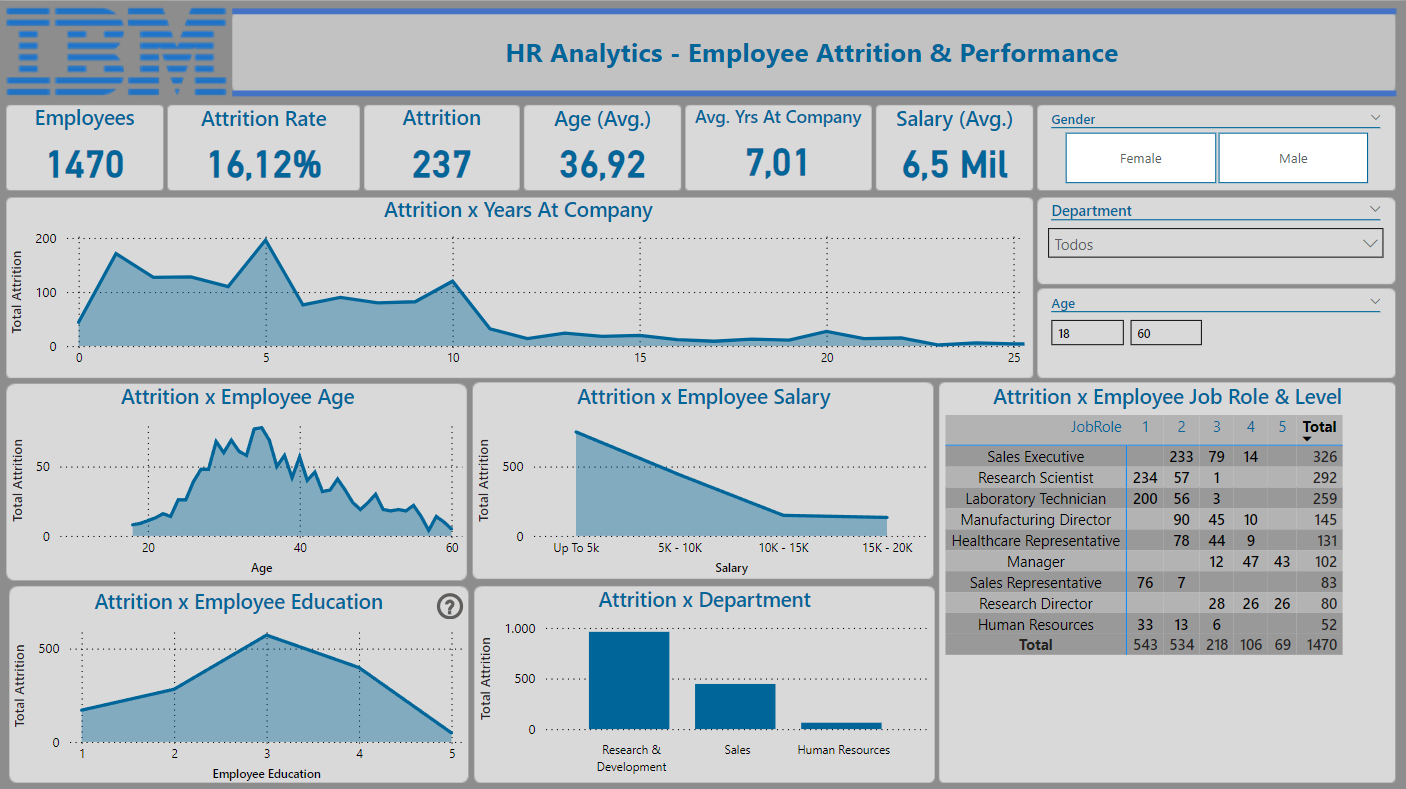

This screenshot's page, from the dashboard's own definition file:
{"tool":"powerbi","page":{"name":"Dashboard","canvas":[1280,720],"ordinal":0},"visuals":[{"type":"actionButton","box":[306,25,865,40],"z":3000},{"type":"card","title":"Employees","fields":{"Values":["Sum(IBM HR Analytics Employee Attrition & Performance.EmployeeCount)"]},"box":[7.3,92.7,140.9,80],"z":4000},{"type":"card","title":"Attrition Rate","fields":{"Values":["_Measures.AttritionRate"]},"box":[153.6,93.6,173.6,79.1],"z":5000},{"type":"card","title":"Attrition","fields":{"Values":["_Measures.AttritionTotal"]},"box":[330.9,92.7,142.7,80],"z":6000},{"type":"card","title":"Age (Avg.)","fields":{"Values":["Avg(IBM HR Analytics Employee Attrition & Performance.Age)"]},"box":[478.2,93.6,140.9,79.1],"z":7000},{"type":"card","title":"Avg. Yrs At Company","fields":{"Values":["Avg(IBM HR Analytics Employee Attrition & Performance.YearsAtCompany)"]},"box":[624.5,93.6,167.3,79.1],"z":8000},{"type":"card","title":"Salary (Avg.)","fields":{"Values":["Avg(IBM HR Analytics Employee Attrition & Performance.MonthlyIncome)"]},"box":[797.3,93.6,142.7,79.1],"z":9000},{"type":"slicer","title":"Age","fields":{"Values":["IBM HR Analytics Employee Attrition & Performance.Age"]},"box":[944,261,325,82],"z":10000},{"type":"slicer","fields":{"Values":["IBM HR Analytics Employee Attrition & Performance.Gender"]},"box":[943.6,93.6,325.5,79.1],"z":11000},{"type":"stackedAreaChart","title":"Attrition x Years At Company","fields":{"Category":["IBM HR Analytics Employee Attrition & Performance.YearsAtCompany"],"Y":["CountNonNull(IBM HR Analytics Employee Attrition & Performance.Attrition)"]},"box":[6.4,176.4,930.9,166.4],"z":12000},{"type":"stackedAreaChart","title":"Attrition x Employee Age","fields":{"Y":["CountNonNull(IBM HR Analytics Employee Attrition & Performance.Attrition)"],"Category":["IBM HR Analytics Employee Attrition & Performance.Age"]},"box":[7.3,346.4,419.1,180.9],"z":13000},{"type":"clusteredColumnChart","title":"Attrition x Department","fields":{"Category":["IBM HR Analytics Employee Attrition & Performance.Department"],"Y":["CountNonNull(IBM HR Analytics Employee Attrition & Performance.Attrition)"]},"box":[432.7,530.9,417.3,180],"z":14000},{"type":"stackedAreaChart","title":"Attrition x Employee Education","fields":{"Y":["CountNonNull(IBM HR Analytics Employee Attrition & Performance.Attrition)"],"Category":["IBM HR Analytics Employee Attrition & Performance.Education"]},"box":[9.1,532.7,417.3,181.8],"z":15000},{"type":"actionButton","box":[393.6,530.9,32.7,38.2],"z":16000},{"type":"pivotTable","title":"Attrition x Employee Job Role & Level","fields":{"Rows":["IBM HR Analytics Employee Attrition & Performance.JobRole"],"Values":["CountNonNull(IBM HR Analytics Employee Attrition & Performance.Attrition)"],"Columns":["IBM HR Analytics Employee Attrition & Performance.JobLevel"]},"box":[855.5,346.4,413.6,364.5],"z":17000},{"type":"slicer","title":"Age","fields":{"Values":["IBM HR Analytics Employee Attrition & Performance.Department"]},"box":[943.6,176.4,325.5,81.8],"z":18000},{"type":"stackedAreaChart","title":"Attrition x Employee Salary","fields":{"Y":["CountNonNull(IBM HR Analytics Employee Attrition & Performance.Attrition)"],"Category":["IBM HR Analytics Employee Attrition & Performance.IncomeRange"]},"box":[430.9,346.4,419.1,180.9],"z":19000}]}

Visuals, with their boxes in screenshot pixels (x1, y1, x2, y2), scaled from the page's 1280x720 canvas onto the 1406x789 screenshot:
actionButton: [336, 27, 1286, 71]
"Employees" card: [8, 102, 163, 189]
"Attrition Rate" card: [169, 103, 359, 189]
"Attrition" card: [363, 102, 520, 189]
"Age (Avg.)" card: [525, 103, 680, 189]
"Avg. Yrs At Company" card: [686, 103, 870, 189]
"Salary (Avg.)" card: [876, 103, 1033, 189]
"Age" slicer: [1037, 286, 1394, 376]
slicer - IBM HR Analytics Employee Attrition & Performance.Gender: [1036, 103, 1394, 189]
"Attrition x Years At Company" stackedAreaChart: [7, 193, 1030, 376]
"Attrition x Employee Age" stackedAreaChart: [8, 380, 468, 578]
"Attrition x Department" clusteredColumnChart: [475, 582, 934, 779]
"Attrition x Employee Education" stackedAreaChart: [10, 584, 468, 783]
actionButton: [432, 582, 468, 624]
"Attrition x Employee Job Role & Level" pivotTable: [940, 380, 1394, 779]
"Age" slicer: [1036, 193, 1394, 283]
"Attrition x Employee Salary" stackedAreaChart: [473, 380, 934, 578]
